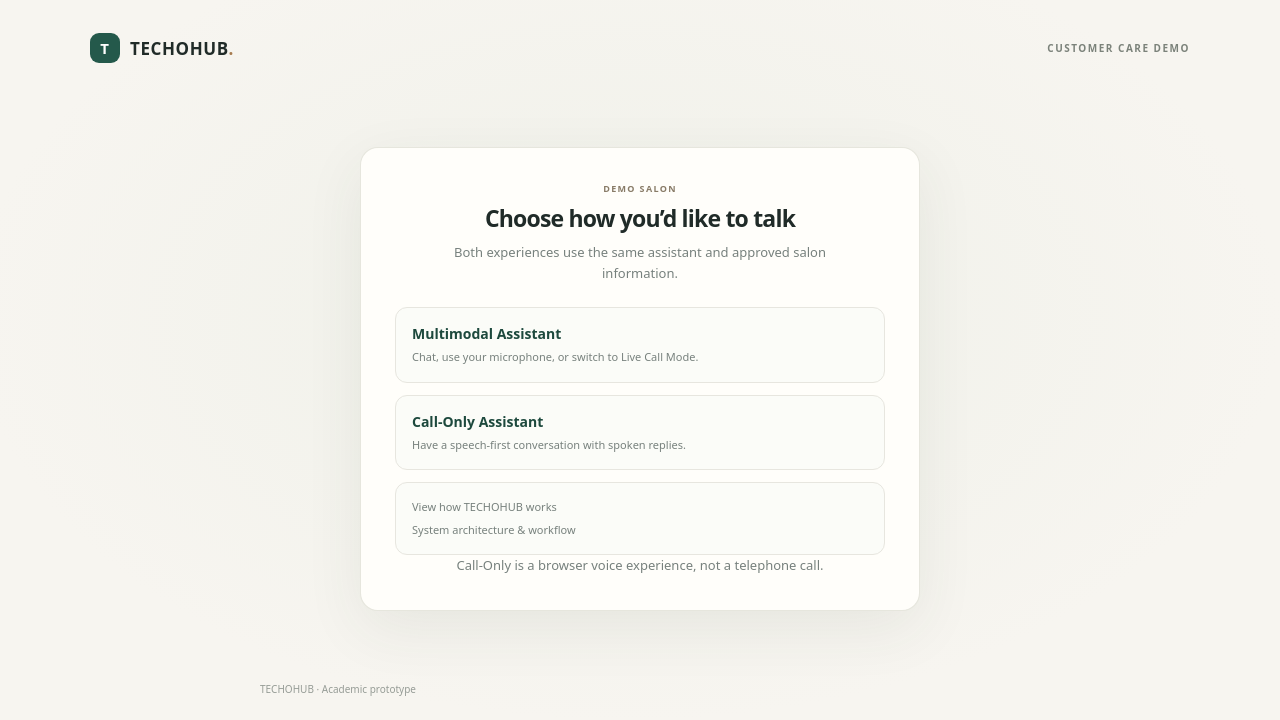
Scenario: browser text chat › loads approved service cards in an accessible panel and closes with focus restored
Later steps or results of the test are not shown.
Click the button "Multimodal Assistant" at (487, 334), box [395, 307, 885, 383]
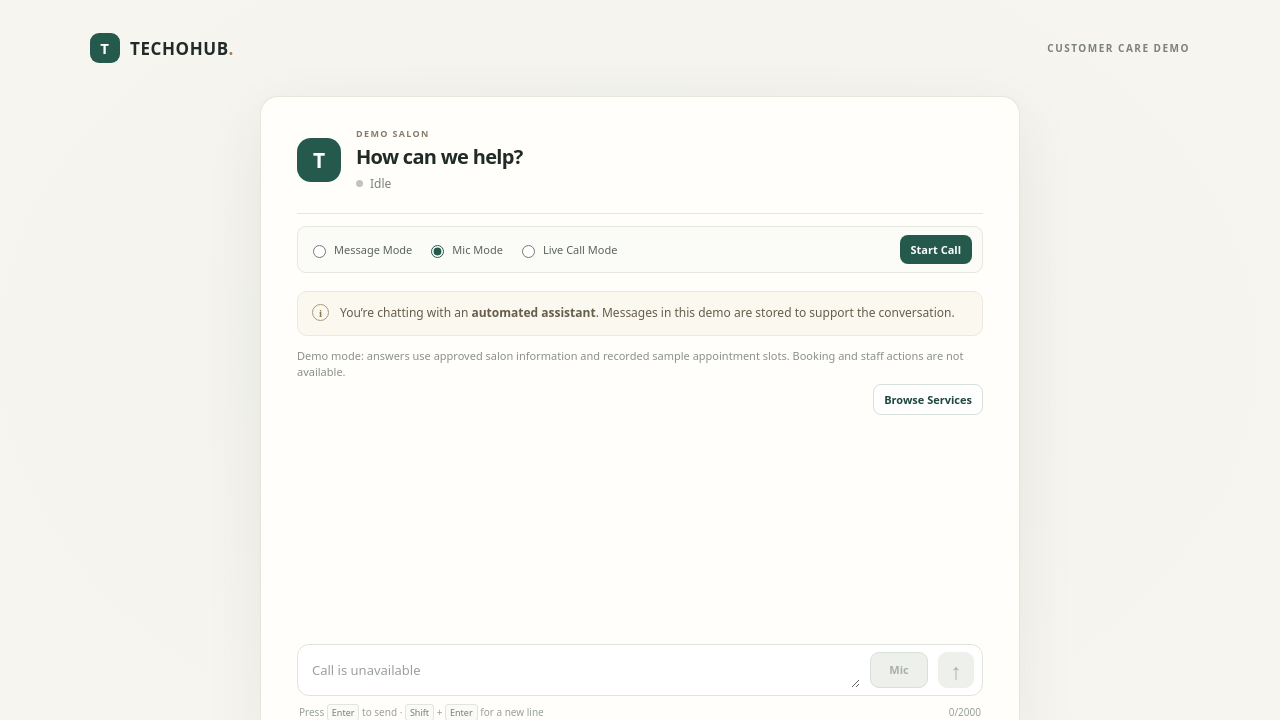
Click the button "Browse Services" at (928, 399), box [873, 384, 983, 415]
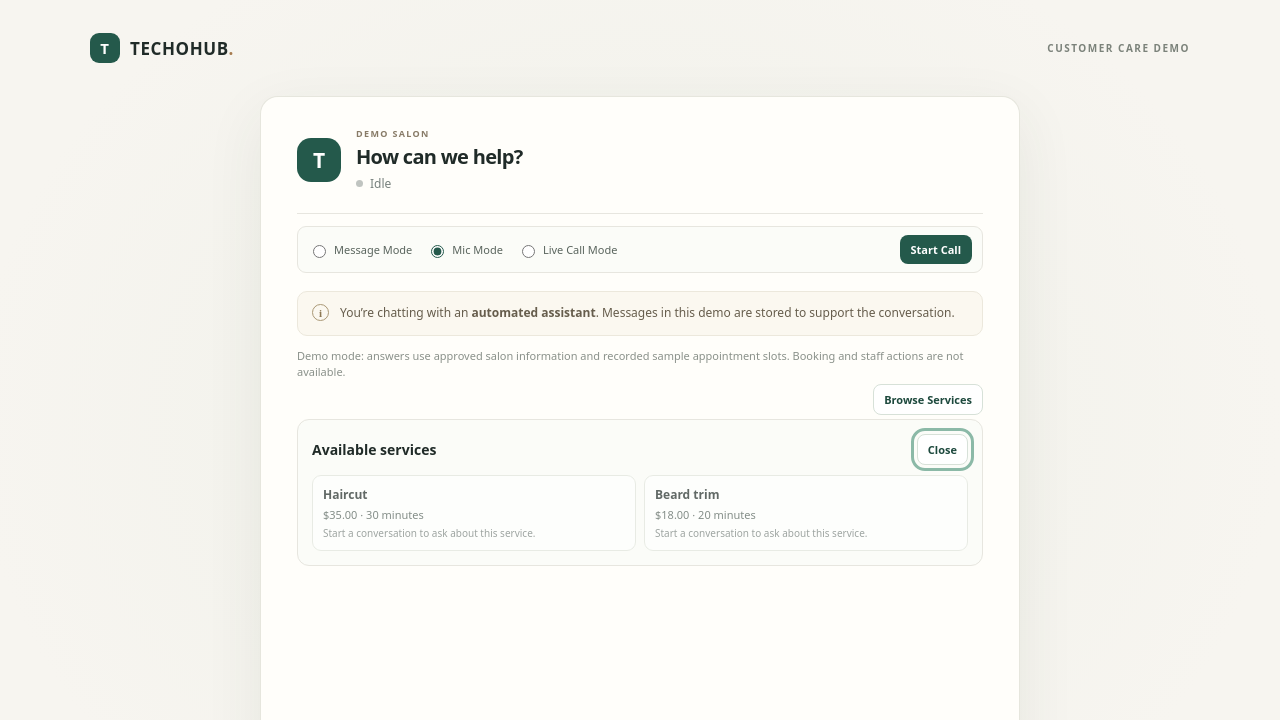
Expected: the dialog "Available services" is shown, [297, 419, 983, 566]
Expected: the button that starts with "Haircut" is shown, [312, 475, 636, 551]
Expected: the button that starts with "Beard trim" is shown, [644, 475, 968, 551]
Click the button with aria-label "Close services" at (942, 449), box [917, 434, 968, 465]
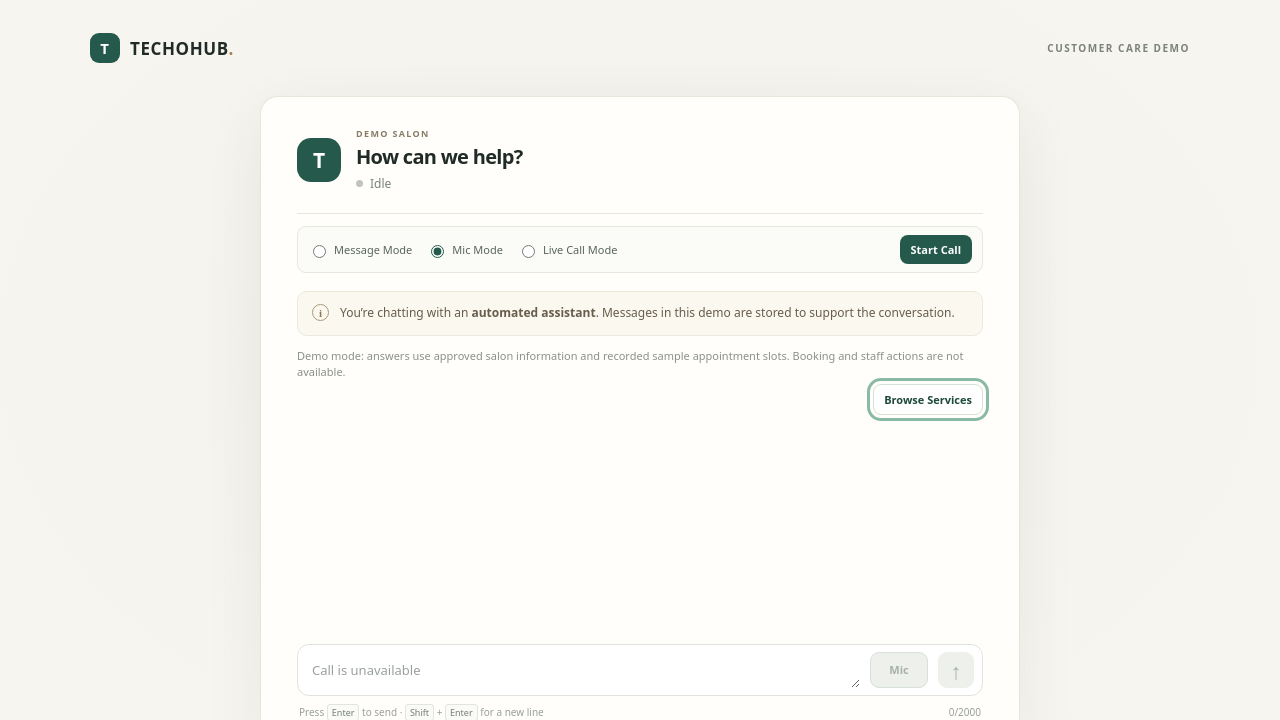
Expected: the heading "Available services" is gone
Click the button "Browse Services" at (928, 399), box [873, 384, 983, 415]
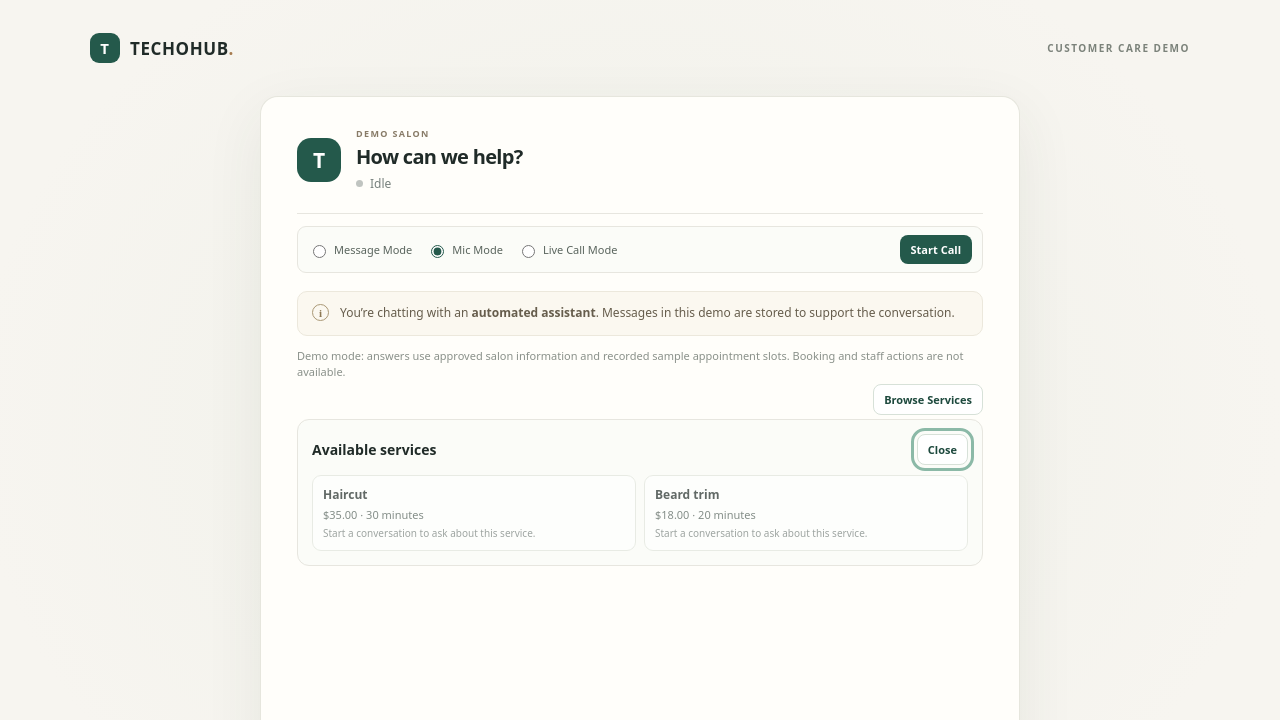
Press Escape
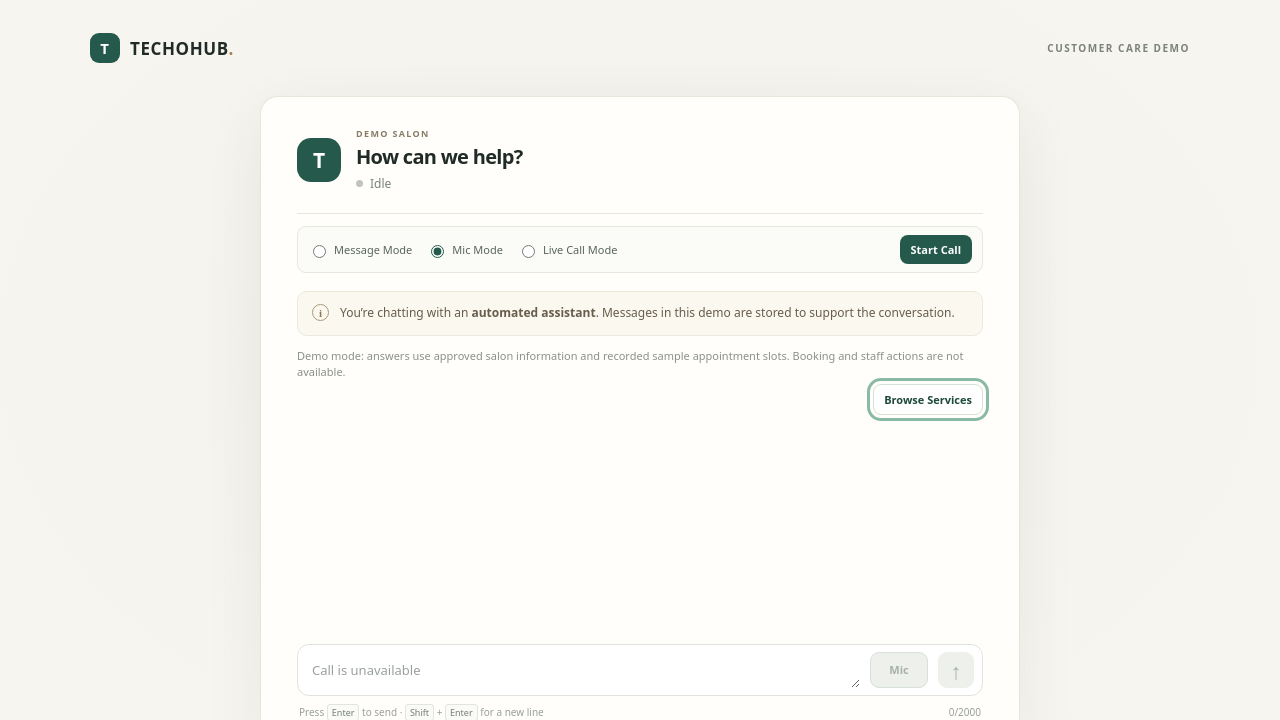
Expected: the heading "Available services" is gone
